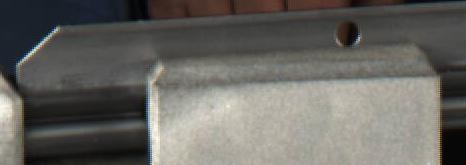cut: (18, 20, 140, 157)
holes: (334, 17, 359, 48)
